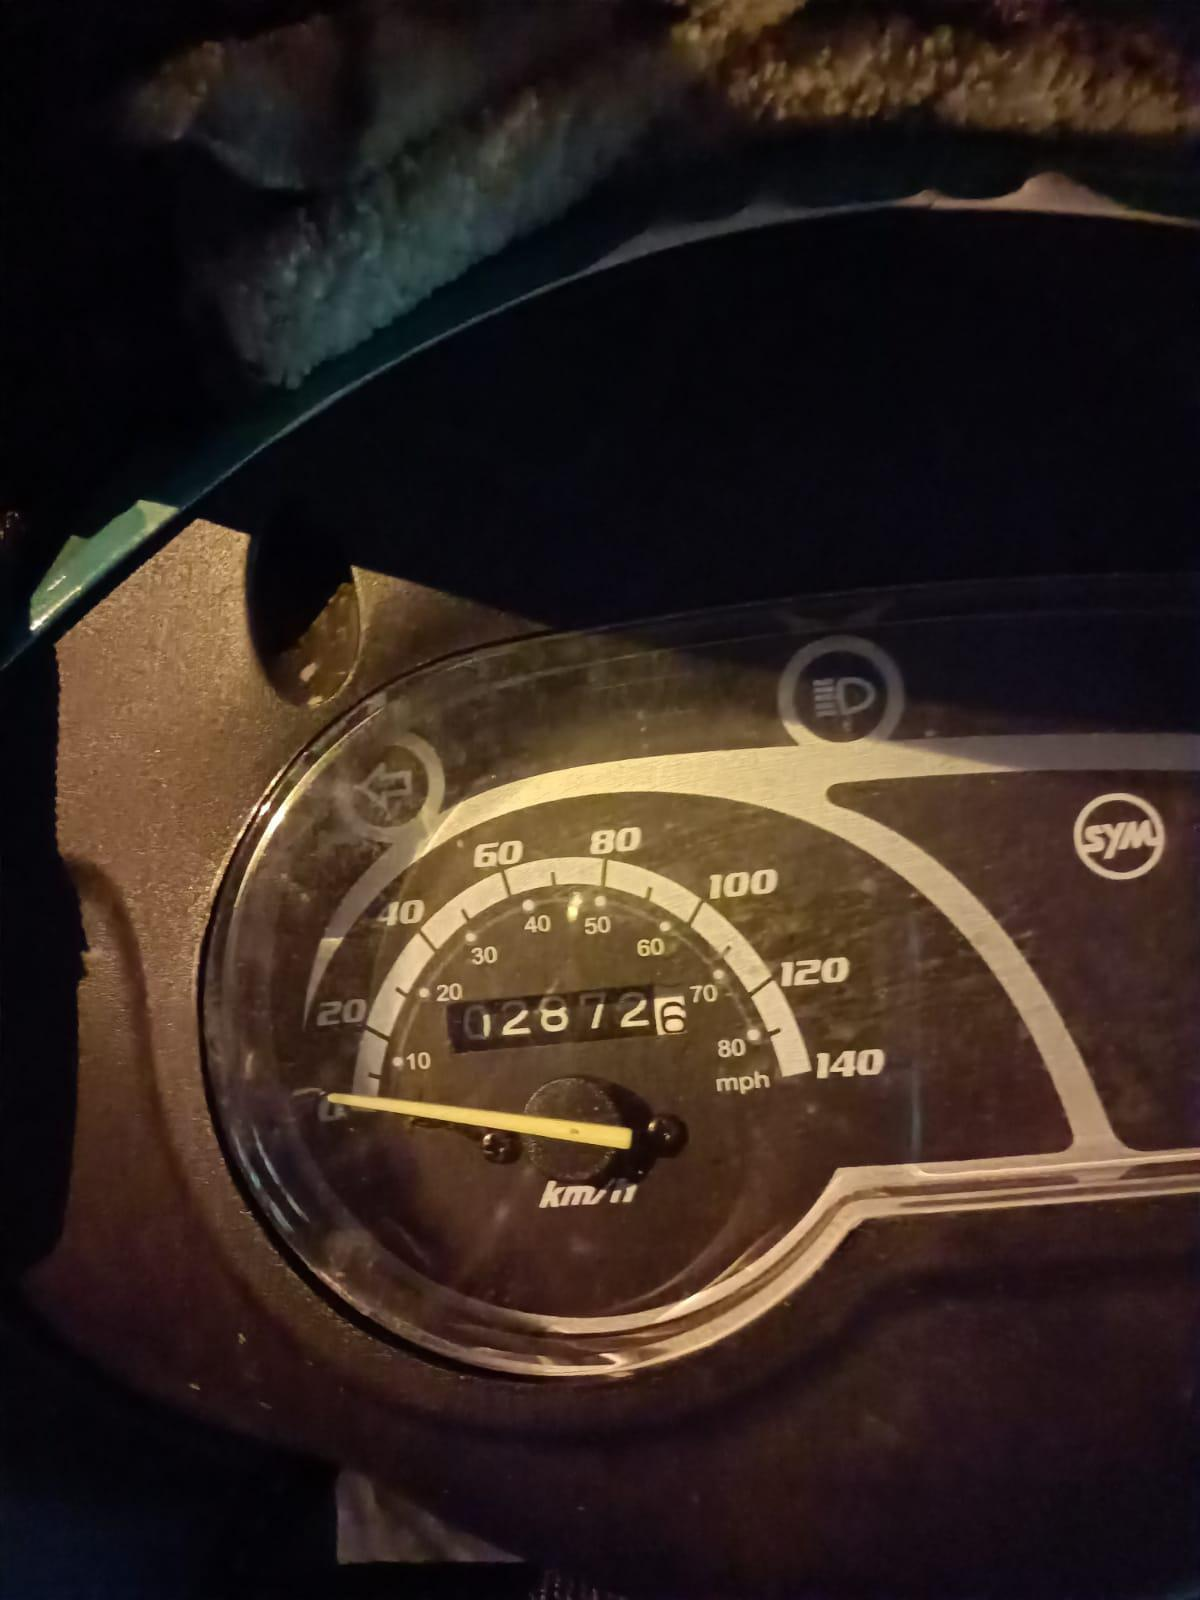0: (465, 1002, 493, 1044), (447, 981, 464, 1003)
2: (616, 991, 653, 1033), (498, 999, 533, 1038)
6: (658, 999, 689, 1042)
7: (579, 990, 610, 1032)
8: (538, 993, 570, 1034)
odometer: (446, 975, 693, 1057)
